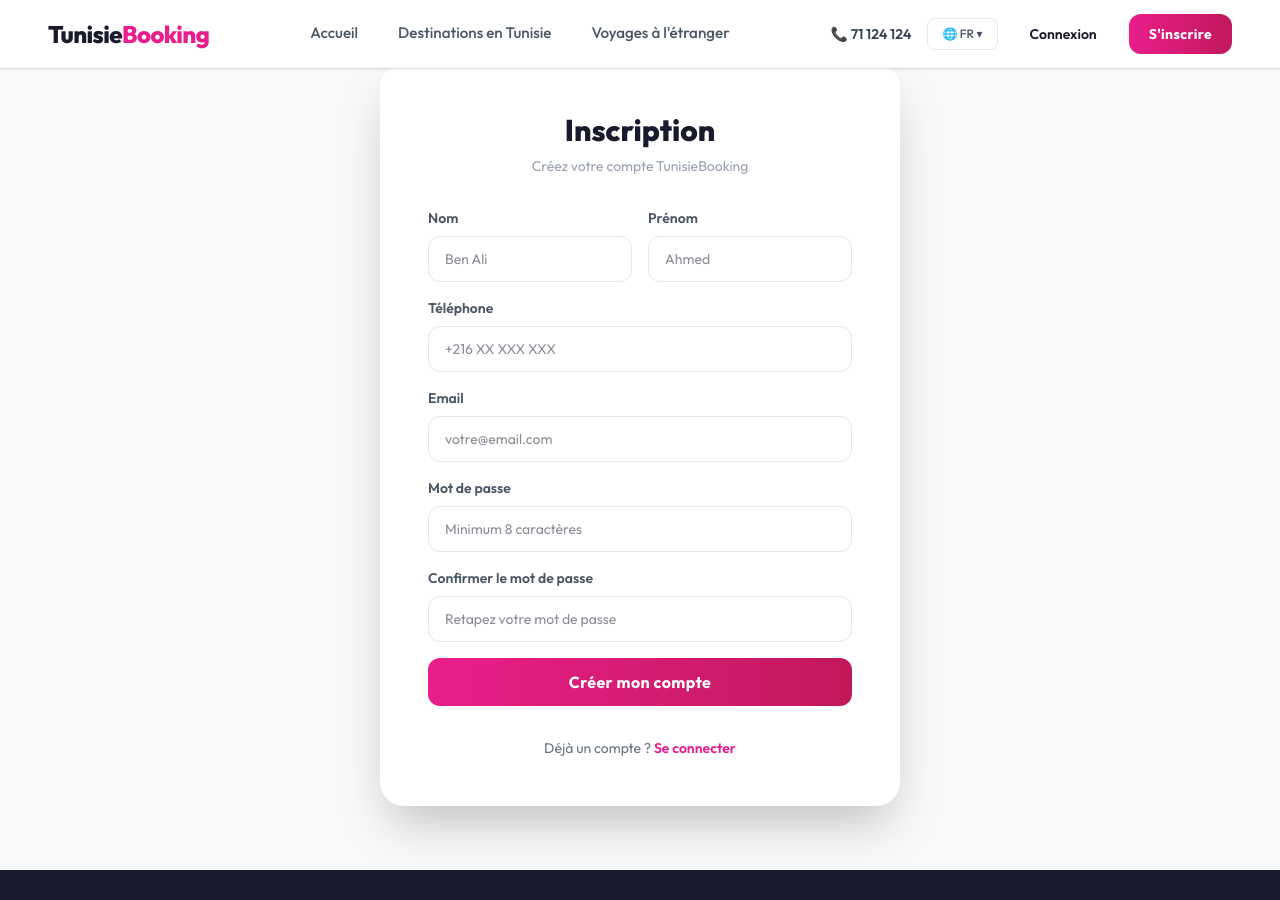
Test: RegisterPage — Tests unitaires de la page d'inscription › affiche le message d'erreur envoyé par le serveur en cas d'échec
Step 1. Type "Test" into the field labelled "Nom" → x=530, y=259, box [428,236,632,282]
Step 2. Type "User" into the field labelled "Prénom" → x=750, y=259, box [648,236,852,282]
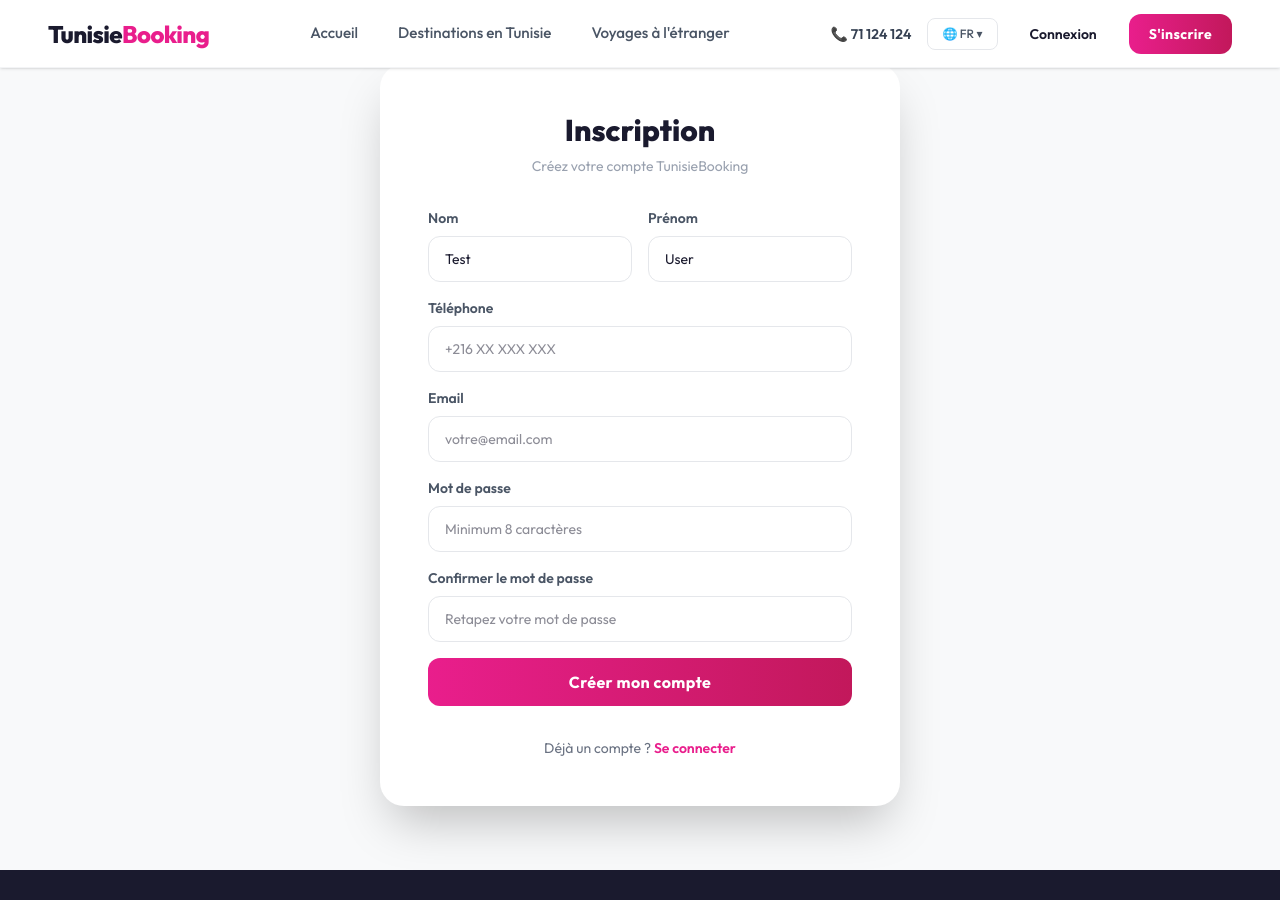
Step 3. Type "12345678" into the field labelled "Téléphone" → x=640, y=349, box [428,326,852,372]
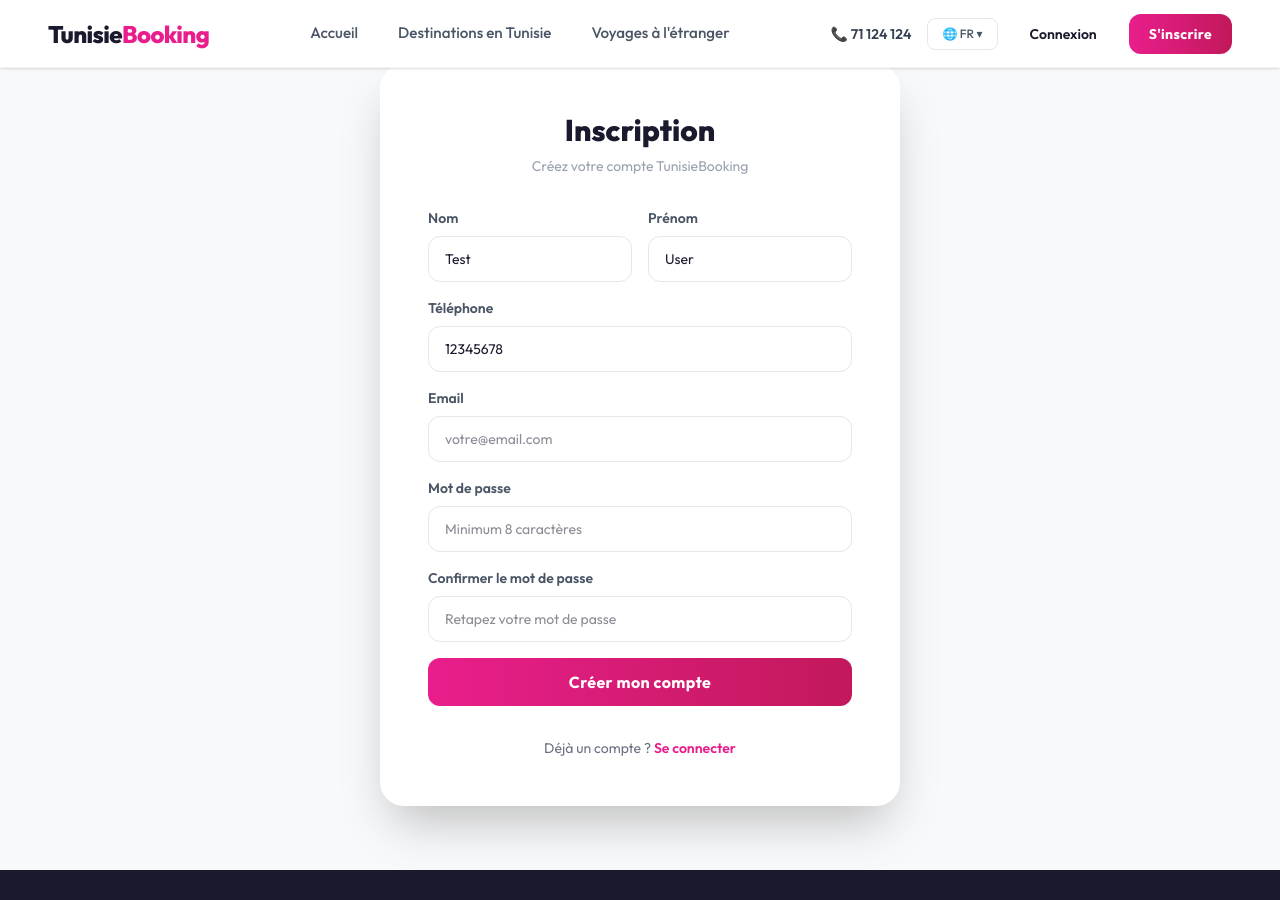
Step 4. Type "pris@test.com" into the field labelled "Email" → x=640, y=439, box [428,416,852,462]
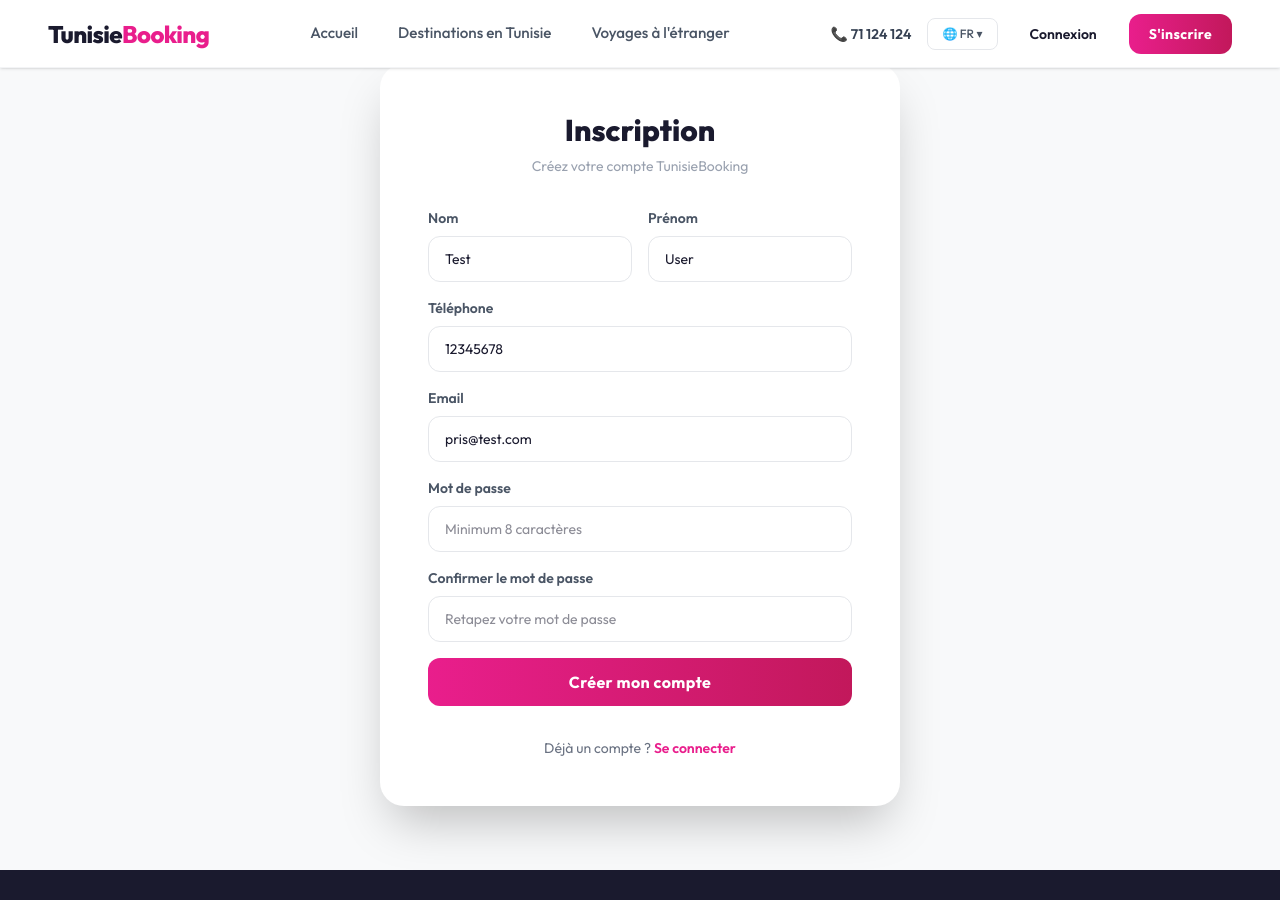
Step 5. Type "password123" into the password field labelled "Mot de passe" → x=640, y=529, box [428,506,852,552]
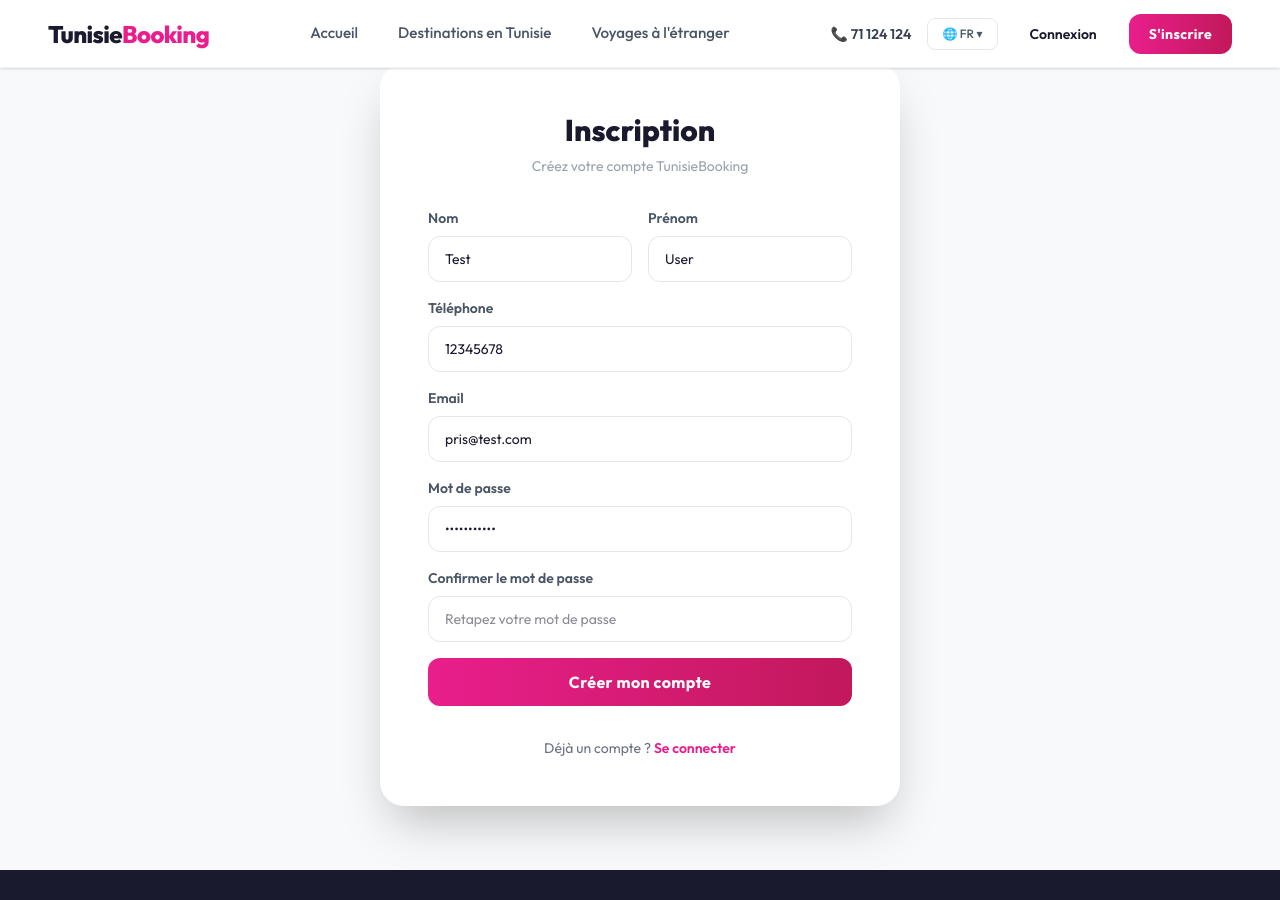
Step 6. Type "password123" into the password field labelled "Confirmer le mot de passe" → x=640, y=619, box [428,596,852,642]
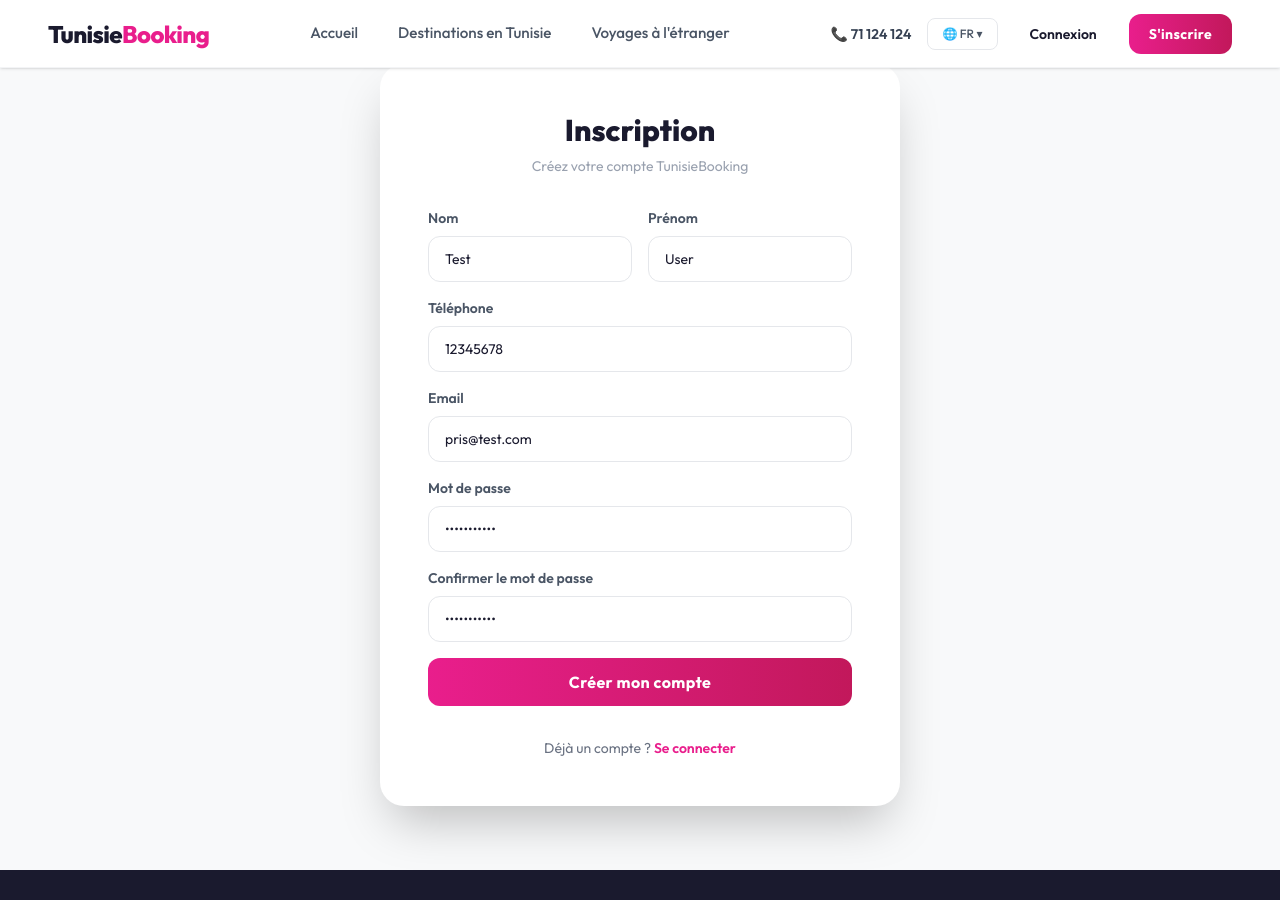
Step 7. Click the button "Créer mon compte" → x=640, y=682, box [428,658,852,706]
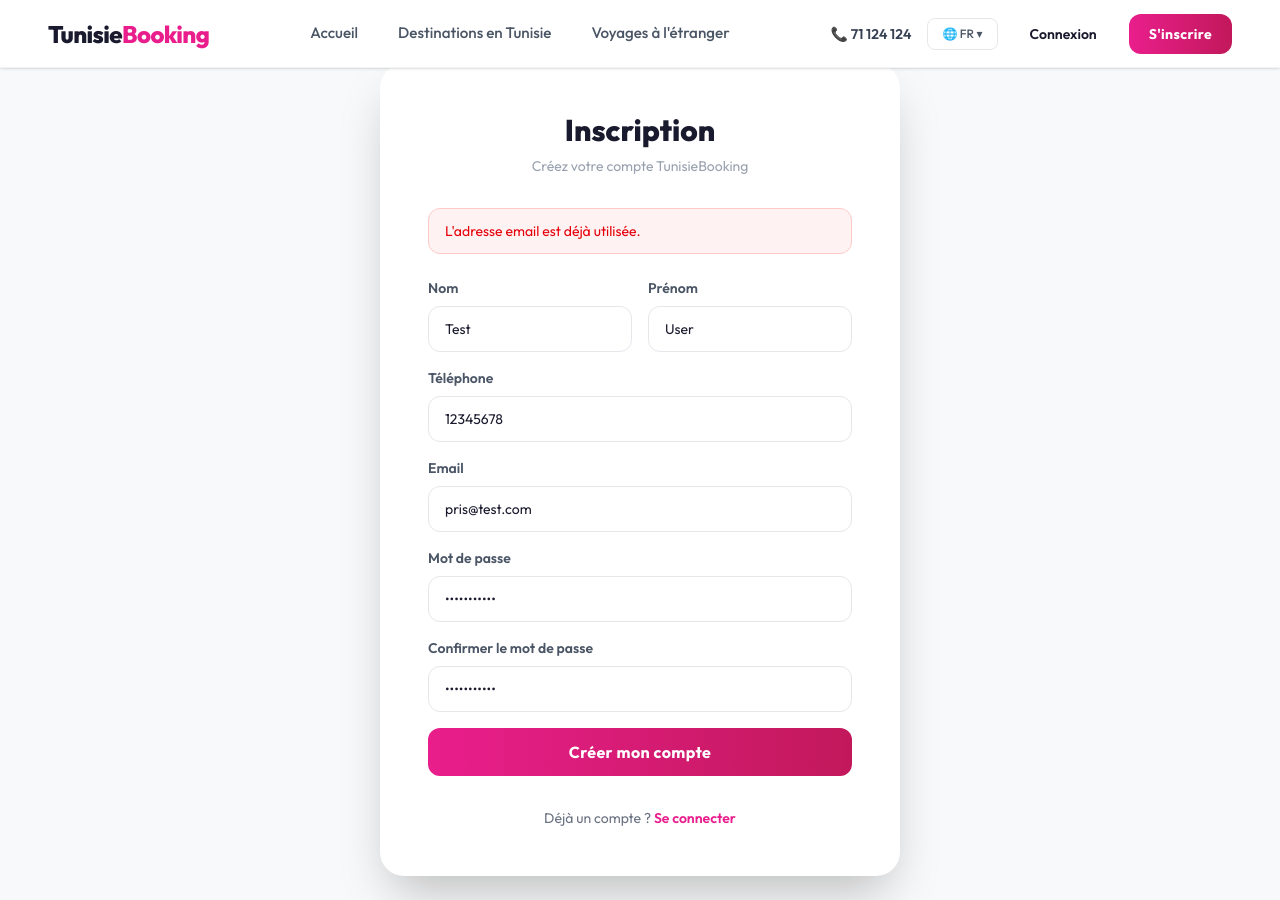
Check: the text "L'adresse email est déjà utilisée." is shown, box [428,208,852,254]
